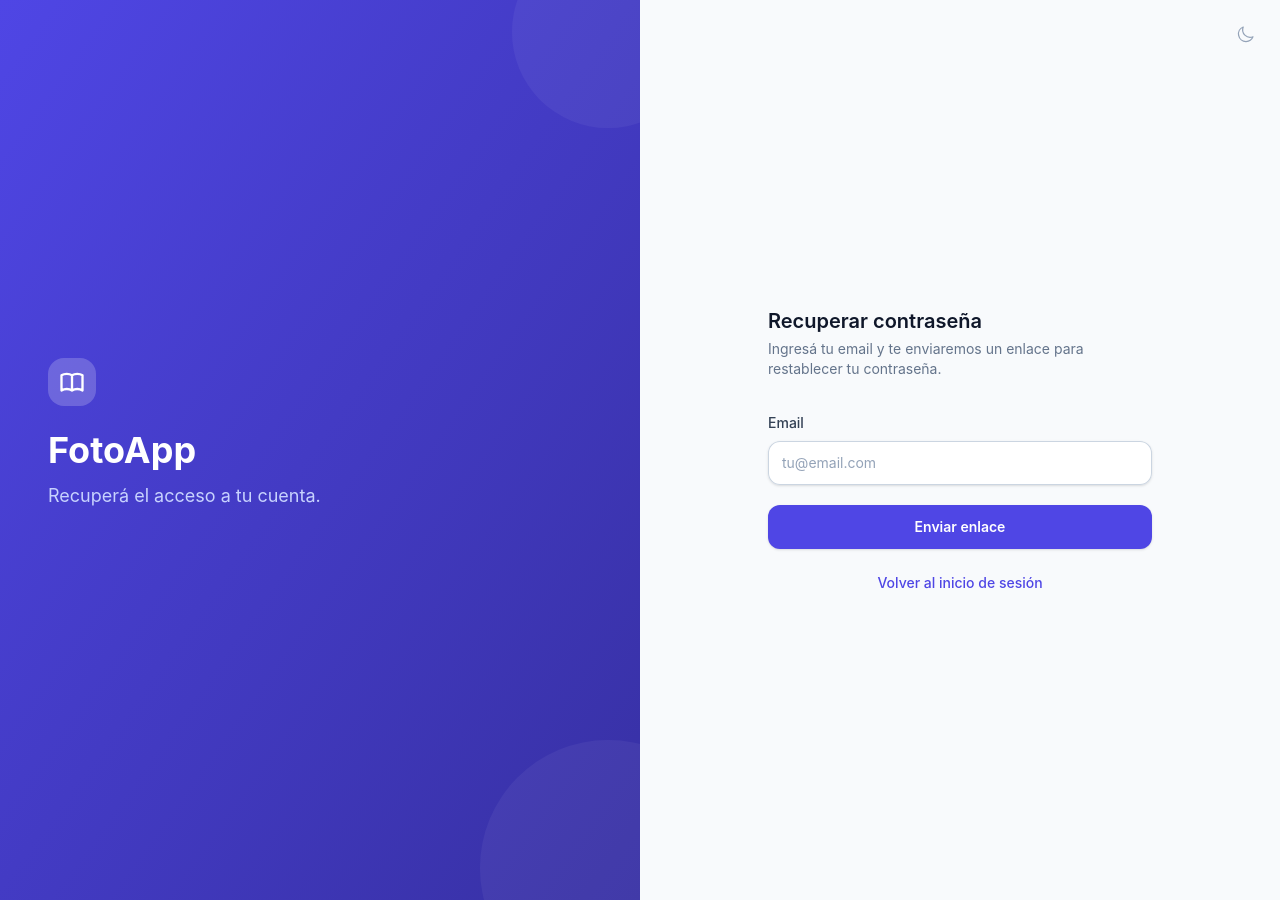
ForgotPassword page › shows error message on API failure
The width and height of the screenshot is (1280, 900).
Type "student@example.com" into the field labelled "Email". click: x=960, y=463
box: [768,441,1152,485]
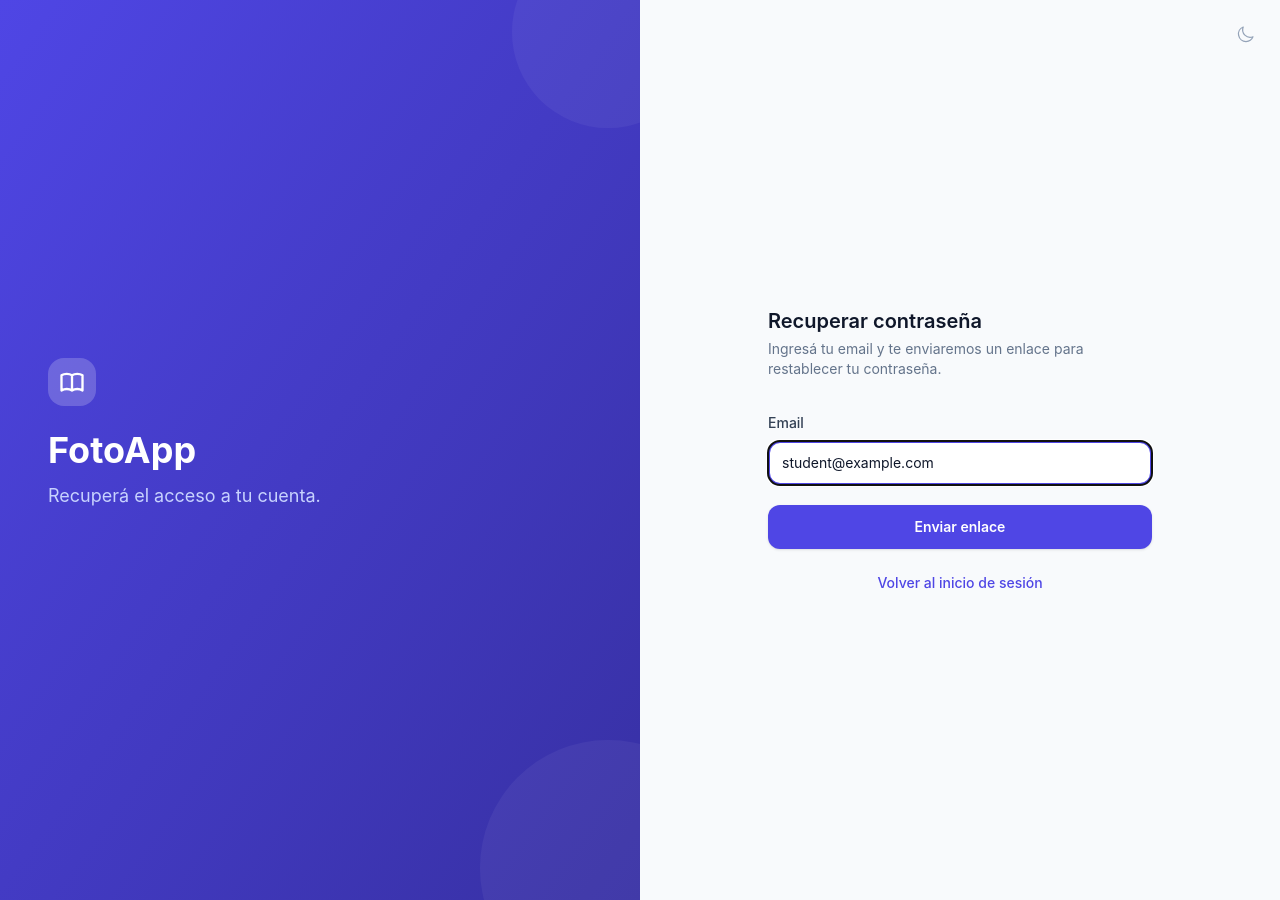
Click the button "Enviar enlace". click: x=960, y=527
box: [768,505,1152,549]
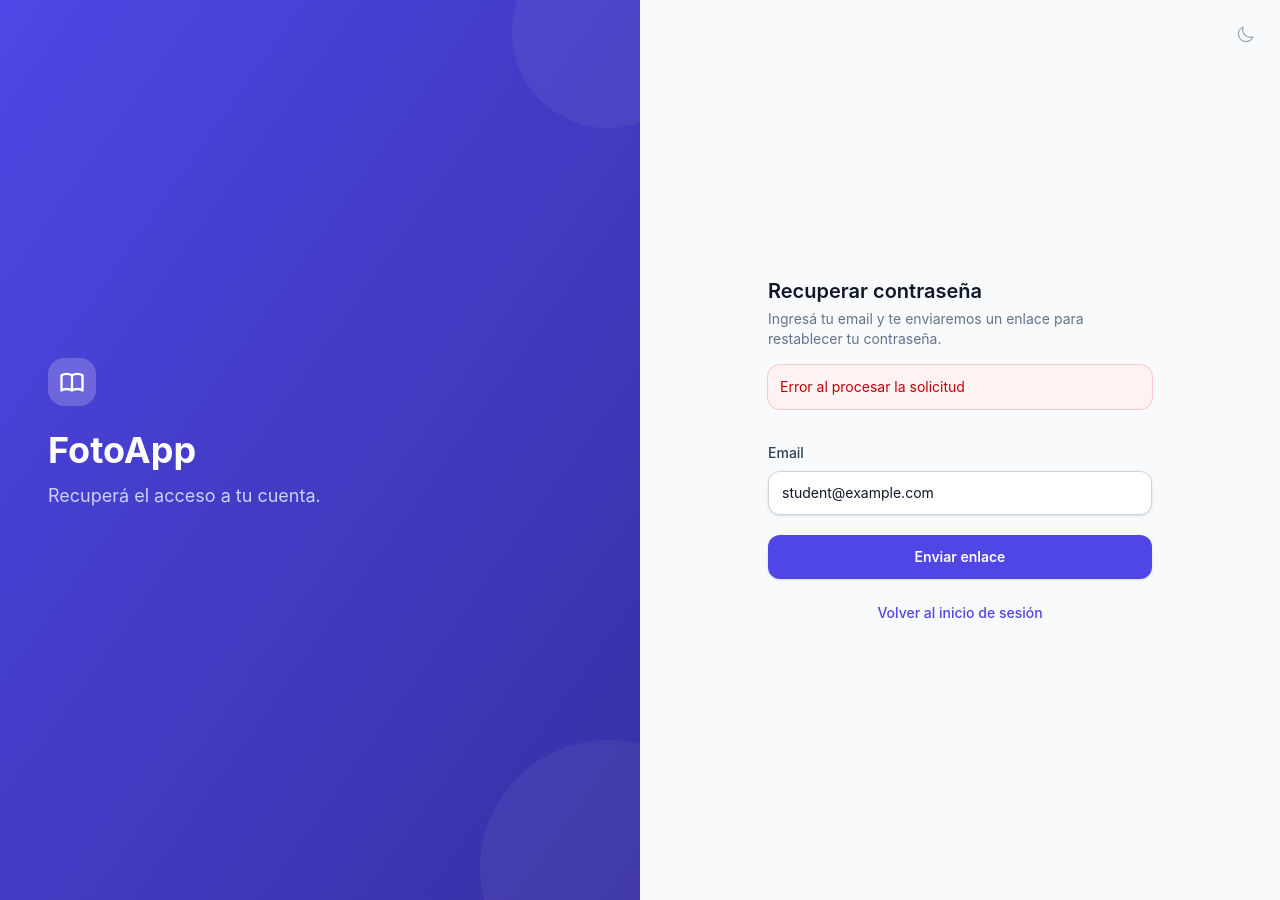
Now the text "Error al procesar la solicitud" is shown, box [768,365,1152,409]
